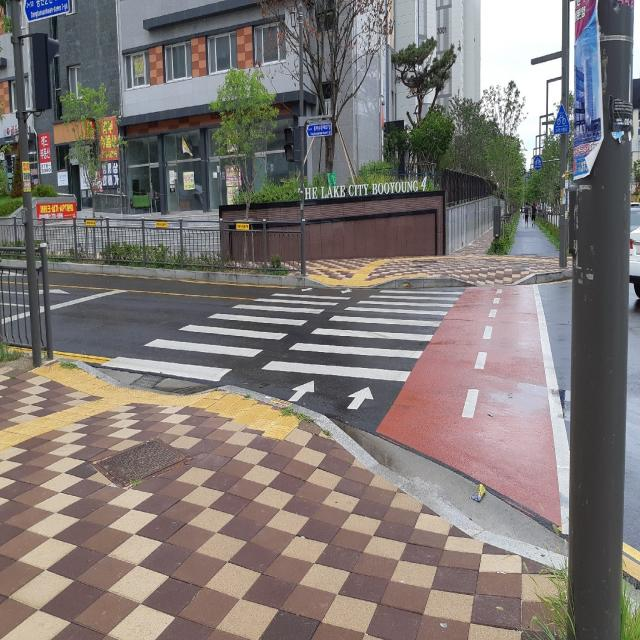횡단보도: (100, 285, 464, 414)
